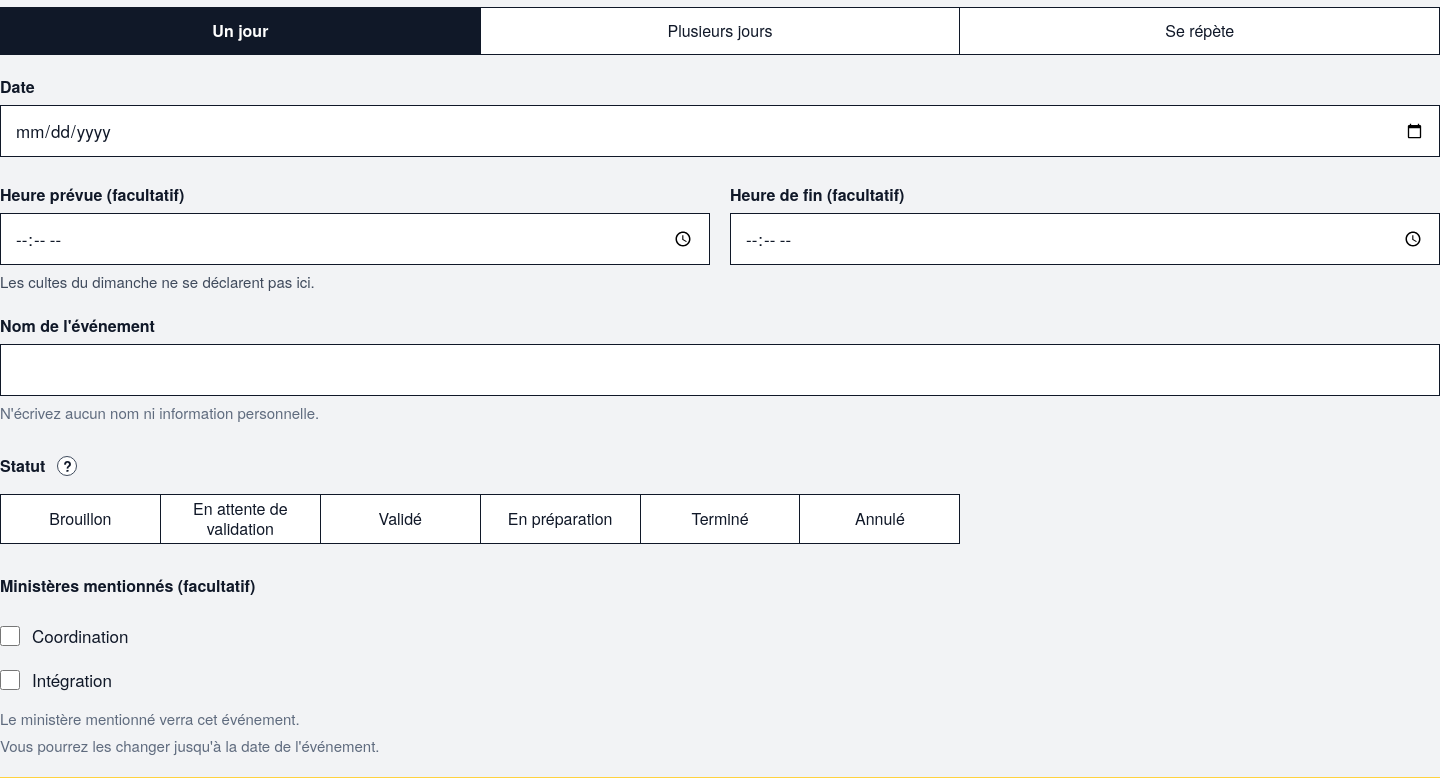
Scenario: « Ajouter un événement » (maquette 11) › autre refus de la base : traduit sous le bouton ; connexion perdue : valeurs gardées
Step 1. Type "2026-10-10" into the date field labelled "Date" → (720, 131), box [0, 105, 1439, 157]
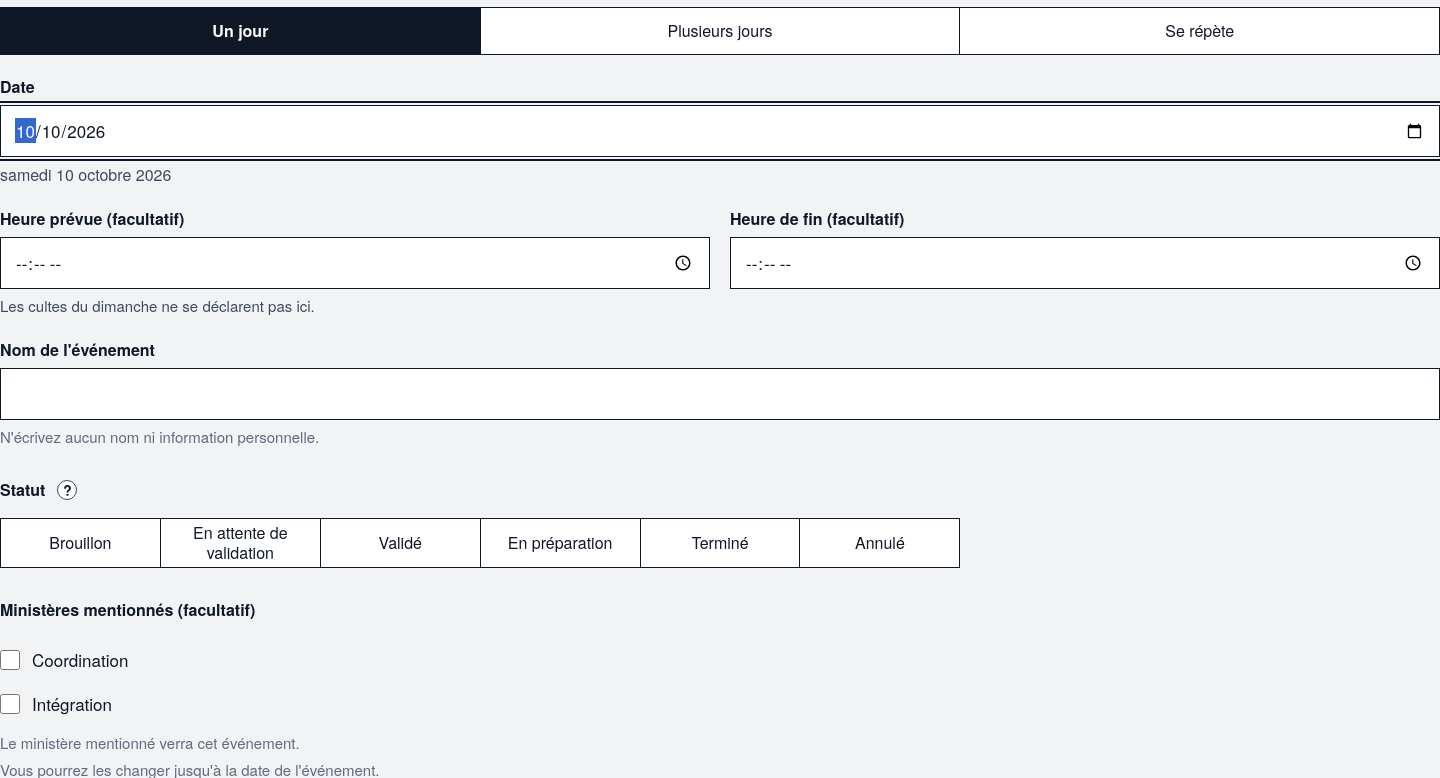
Step 2. Type "  Soirée de louange " into the field labelled "Nom de l'événement" → (720, 394), box [0, 368, 1439, 420]
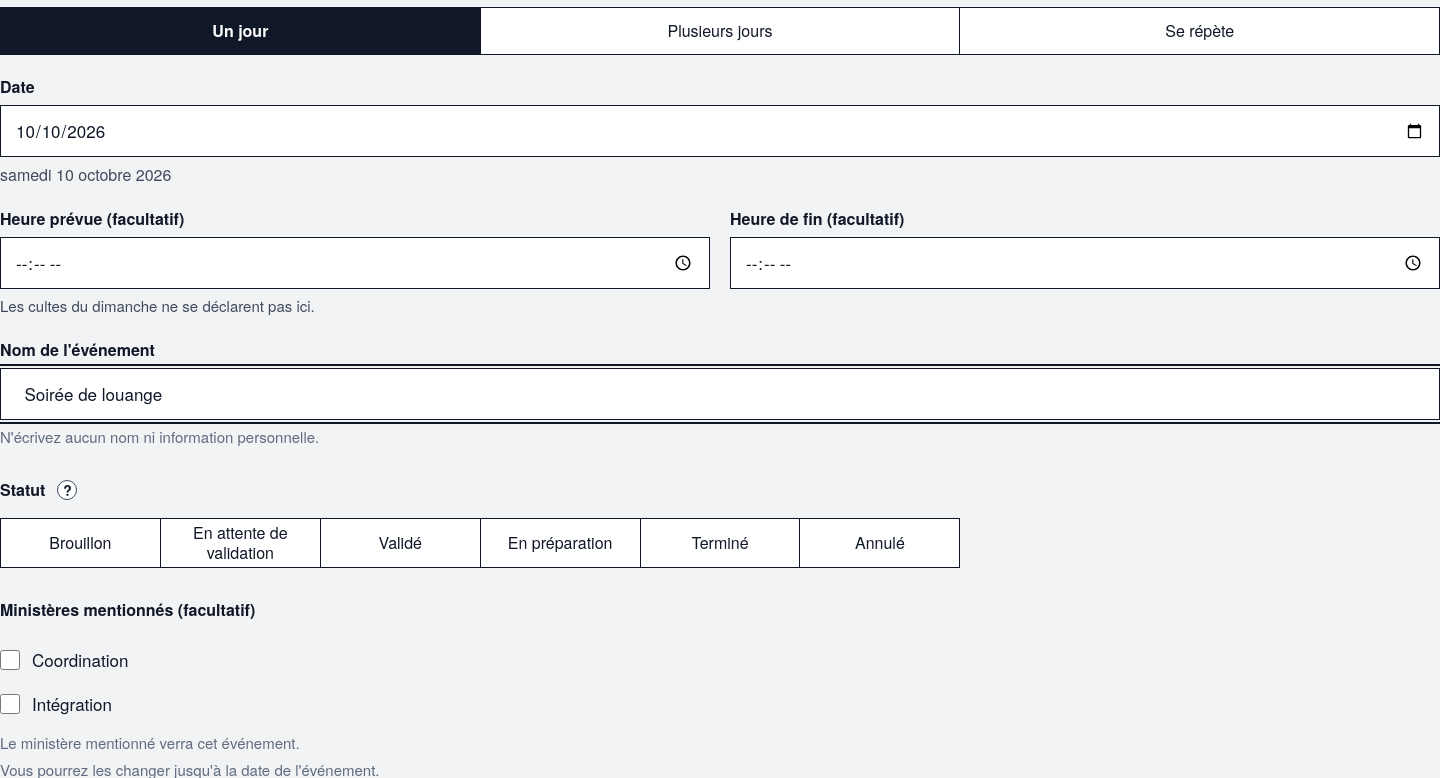
Step 3. Click the radio button labelled "En attente de validation" → (240, 543), box [160, 518, 321, 568]
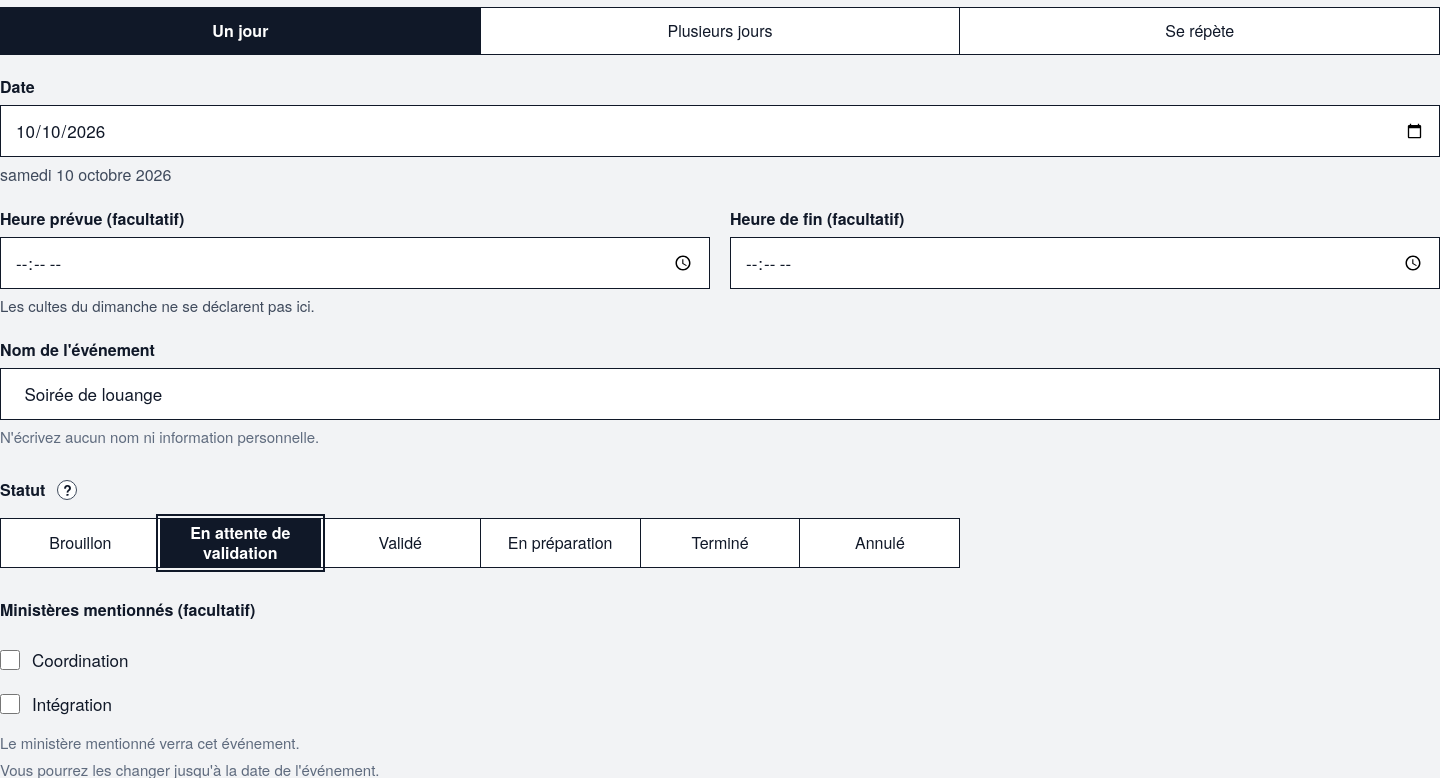
Step 4. Click the checkbox labelled "Coordination" → (10, 660), box [0, 650, 20, 670]
(page scrolled)
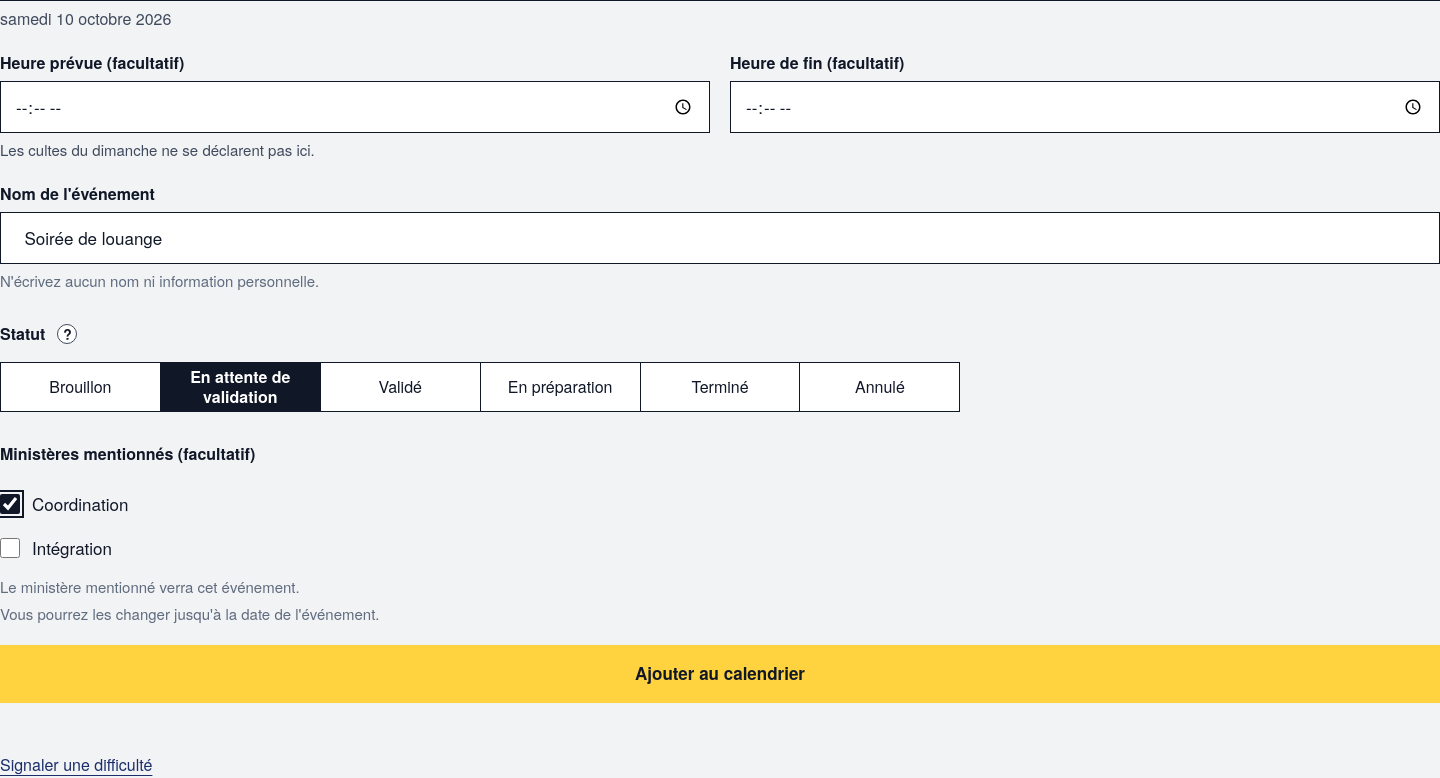
Step 5. Click the button named "Ajouter au calendrier" → (720, 674), box [0, 645, 1439, 703]
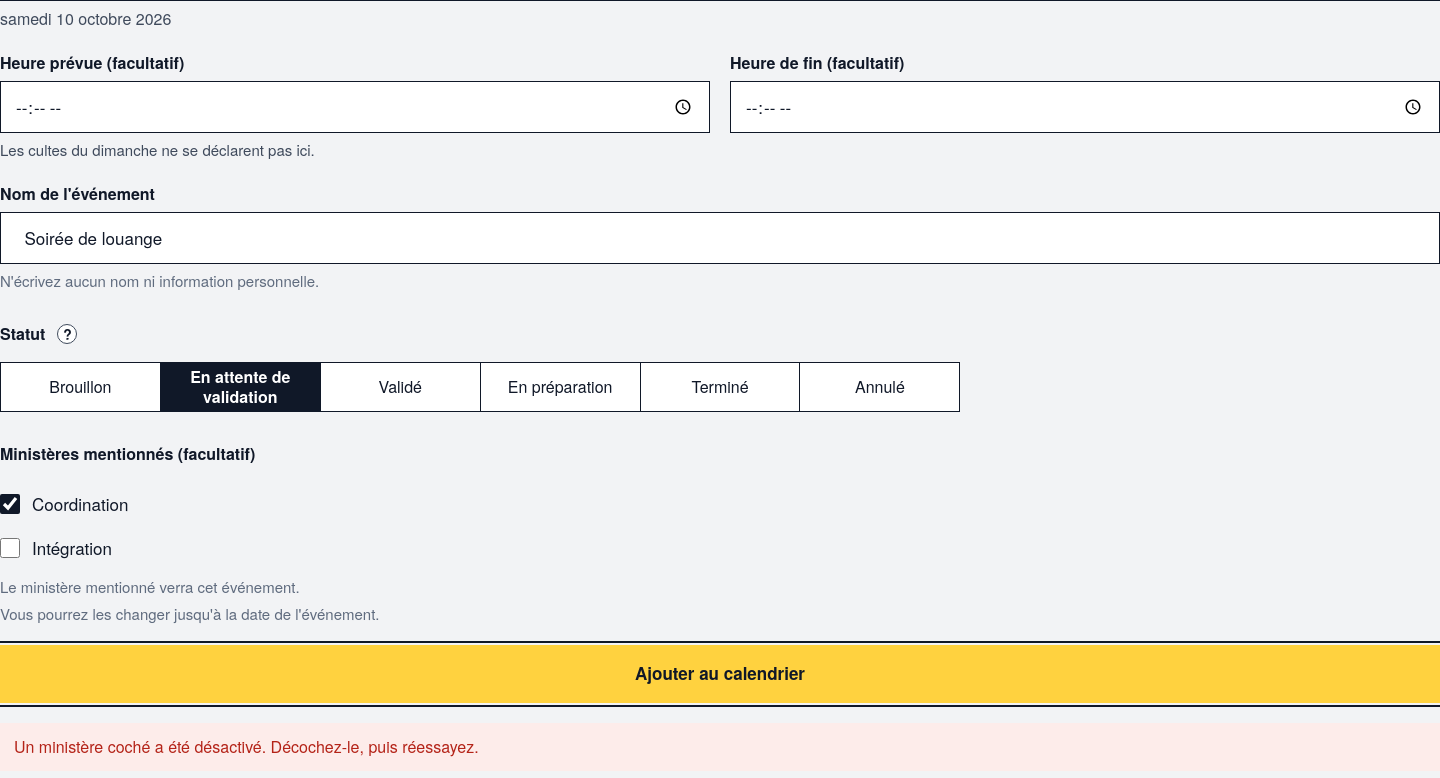
Expected: the text "Référence" is not shown
Expected: the message reads "Un ministère coché a été désactivé. Décochez-le, puis réessayez.", [14, 735, 479, 758]
Step 6. Click the button named "Ajouter au calendrier" → (720, 674), box [0, 645, 1439, 703]
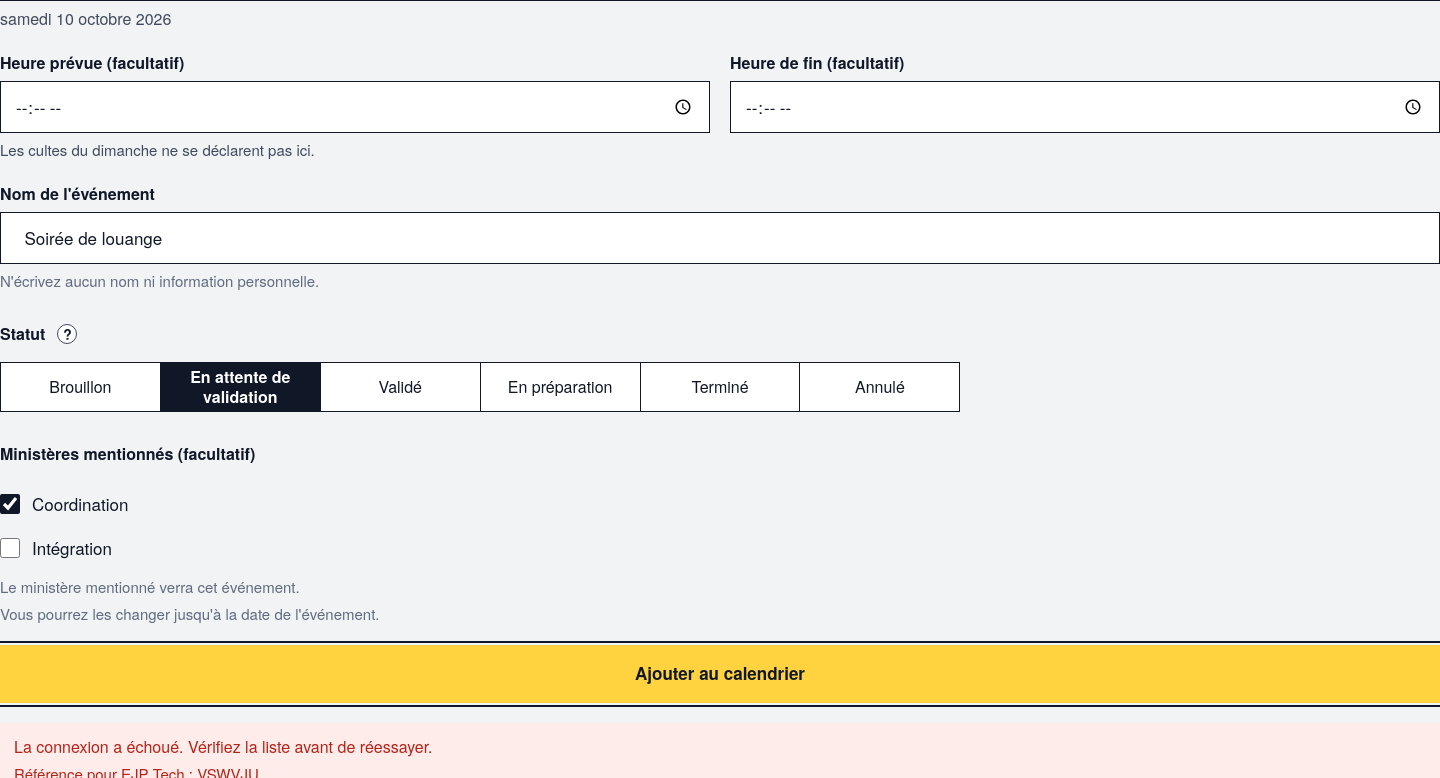
Expected: the radio button labelled "En attente de validation" is checked, [160, 362, 321, 412]
Expected: the message shows "La connexion a échoué. Vérifiez la liste avant de réessayer.", [14, 735, 432, 758]
